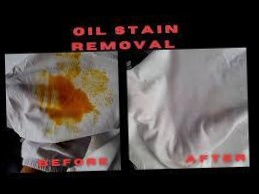oil: (29, 68, 109, 134), (57, 53, 113, 107)
